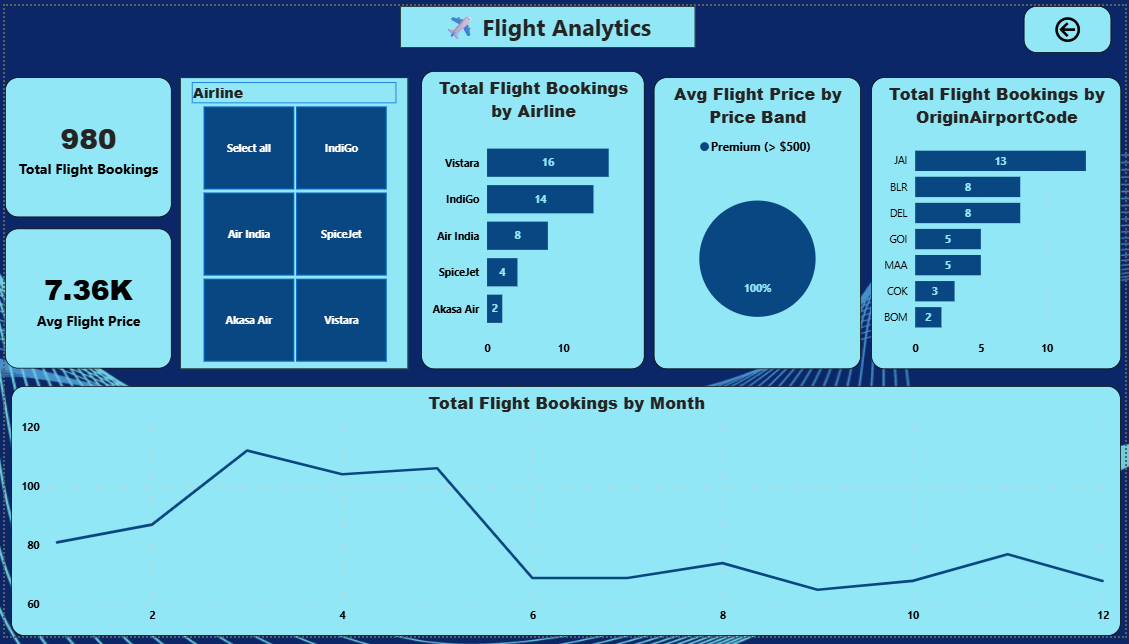

The dashboard page shown, as its layout file describes it:
{"tool":"powerbi","page":{"name":"Flight Analytics","canvas":[1280,720],"ordinal":3},"visuals":[{"type":"textbox","box":[451.6,0,337.6,47.6],"z":0},{"type":"card","fields":{"Values":["Flight Bookings.Total Flight Bookings"]},"box":[0,80.8,190.4,160.1],"z":1000},{"type":"card","fields":{"Values":["Flight Bookings.Avg Flight Price"]},"box":[0,253.9,190.4,160.1],"z":2000},{"type":"clusteredBarChart","fields":{"Category":["Flights.Airline"],"Y":["Flight Bookings.Total Flight Bookings"]},"box":[476.1,73.6,255.4,340.5],"z":3000},{"type":"pieChart","fields":{"Y":["Flight Bookings.Avg Flight Price"],"Category":["Flights.Price Band"]},"box":[741.6,80.8,236.6,333.3],"z":4000},{"type":"clusteredBarChart","fields":{"Y":["Flight Bookings.Total Flight Bookings"],"Category":["Flights.OriginAirportCode"]},"box":[989.7,80.8,285.7,333.3],"z":5000},{"type":"lineChart","title":"Total Flight Bookings by Month","fields":{"Category":["Date Table.Month Number","Date Table.Month Name"],"Y":["Flight Bookings.Total Flight Bookings"]},"box":[7.2,434.3,1268.2,285.7],"z":6000},{"type":"slicer","fields":{"Values":["Flights.Airline"]},"box":[200.5,80.8,261.1,333.3],"z":7000},{"type":"actionButton","box":[1164.1,0,100.3,53.8],"z":7001}]}

Visuals, with their boxes in screenshot pixels (x1, y1, x2, y2), scaled from the page's 1280x720 canvas onto the 1129x644 screenshot:
textbox: crop(398, 0, 696, 43)
card - Flight Bookings.Total Flight Bookings: crop(0, 72, 168, 215)
card - Flight Bookings.Avg Flight Price: crop(0, 227, 168, 370)
clusteredBarChart - Flights.Airline x Flight Bookings.Total Flight Bookings: crop(420, 66, 645, 370)
pieChart - Flight Bookings.Avg Flight Price x Flights.Price Band: crop(654, 72, 863, 370)
clusteredBarChart - Flight Bookings.Total Flight Bookings x Flights.OriginAirportCode: crop(873, 72, 1125, 370)
"Total Flight Bookings by Month" lineChart: crop(6, 388, 1125, 643)
slicer - Flights.Airline: crop(177, 72, 407, 370)
actionButton: crop(1027, 0, 1115, 48)
